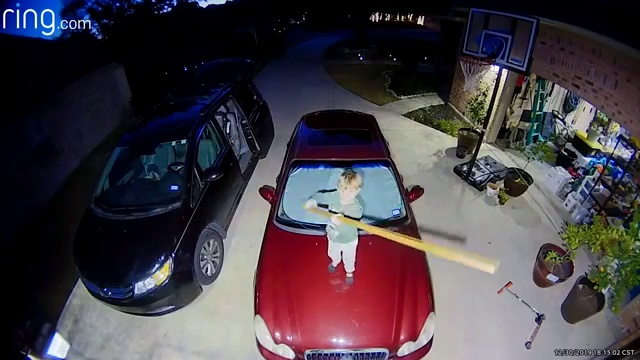face: (337, 185, 357, 202)
